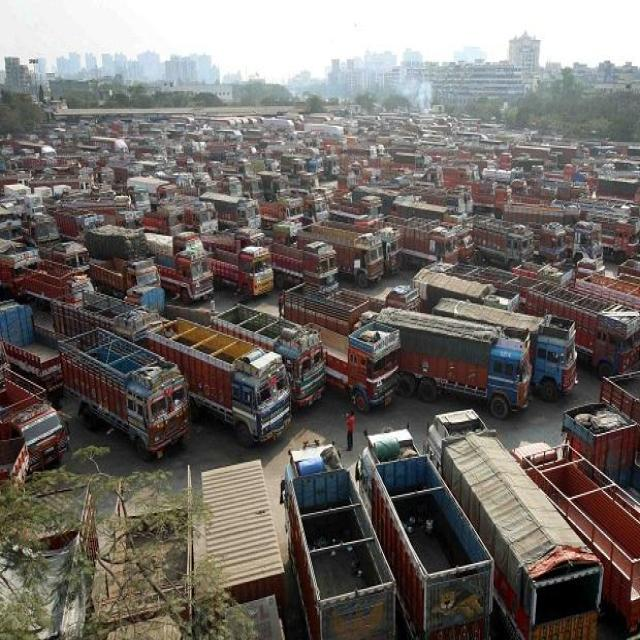truck: (428, 411, 602, 638), (356, 429, 494, 639), (513, 443, 640, 629), (285, 444, 394, 638), (148, 319, 291, 441), (377, 307, 531, 415), (60, 329, 189, 453), (434, 297, 578, 400), (212, 304, 325, 408), (526, 281, 640, 376), (311, 322, 400, 412), (0, 369, 68, 470), (562, 403, 640, 487), (0, 301, 65, 392), (51, 292, 162, 343), (282, 283, 378, 336)
